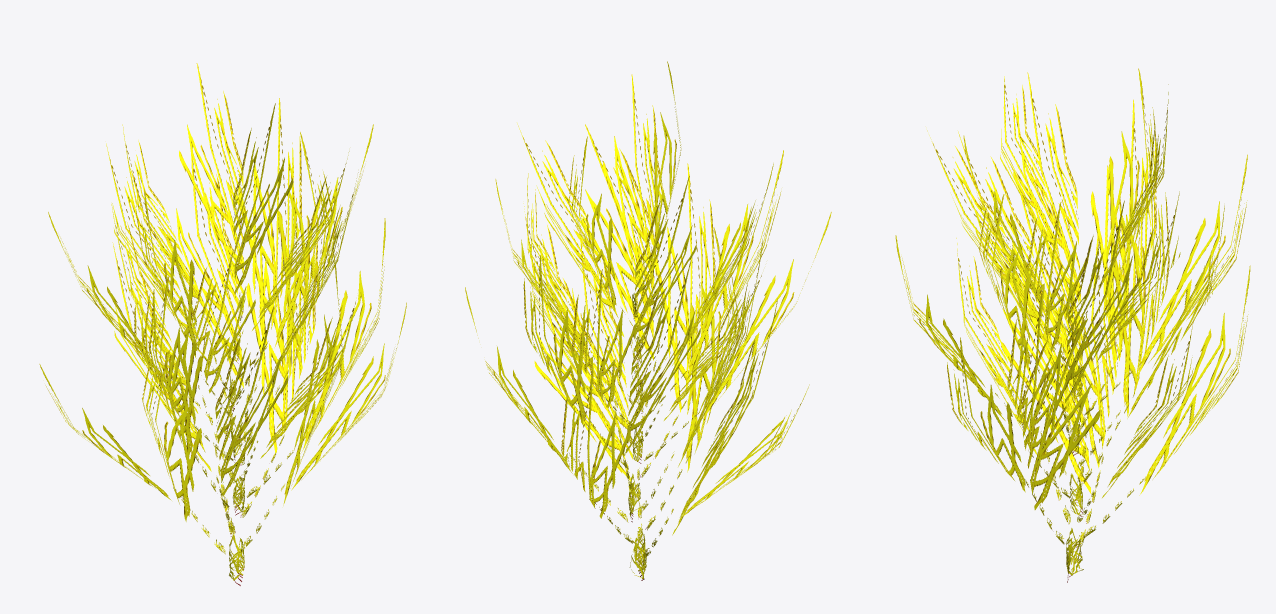
The model's file is bush1.obj.
3 renders of one model, left to right at view 1: azimuth 30°, elevation 25°; view 2: azimuth 150°, elevation 25°; view 3: azimuth 270°, elevation 25°, orthographic. The views are drawn at different scales.
Parts seen in each view (by area): view 1: tree; view 2: tree; view 3: tree.
Part boxes in pixels (x1,y1,x2,y2): tree: [39, 63, 406, 585]; tree: [465, 61, 831, 580]; tree: [895, 68, 1250, 582].
Size of the model in its own units: 148 by 224 by 133.
1 material, 1 textured.
